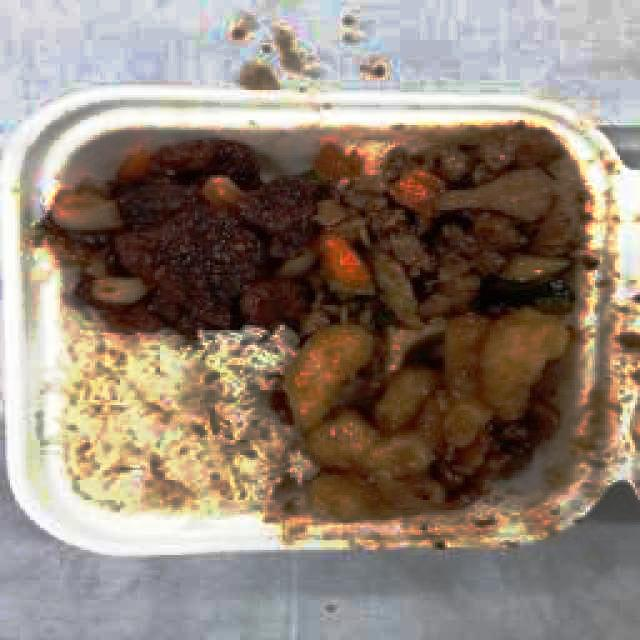Beijing Beef: (43, 138, 574, 318)
rice: (53, 324, 285, 518)
